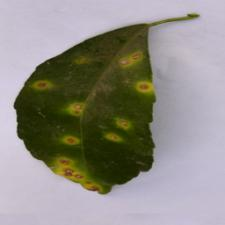Canker: (25, 34, 176, 199)
